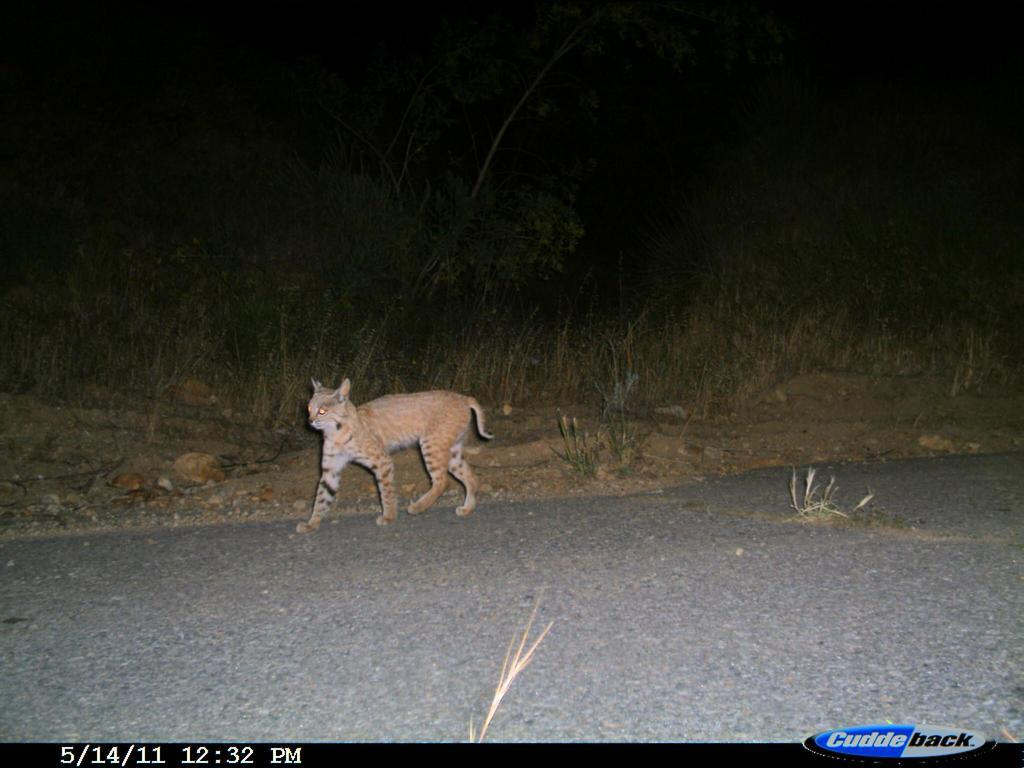bobcat: (286, 370, 507, 545)
